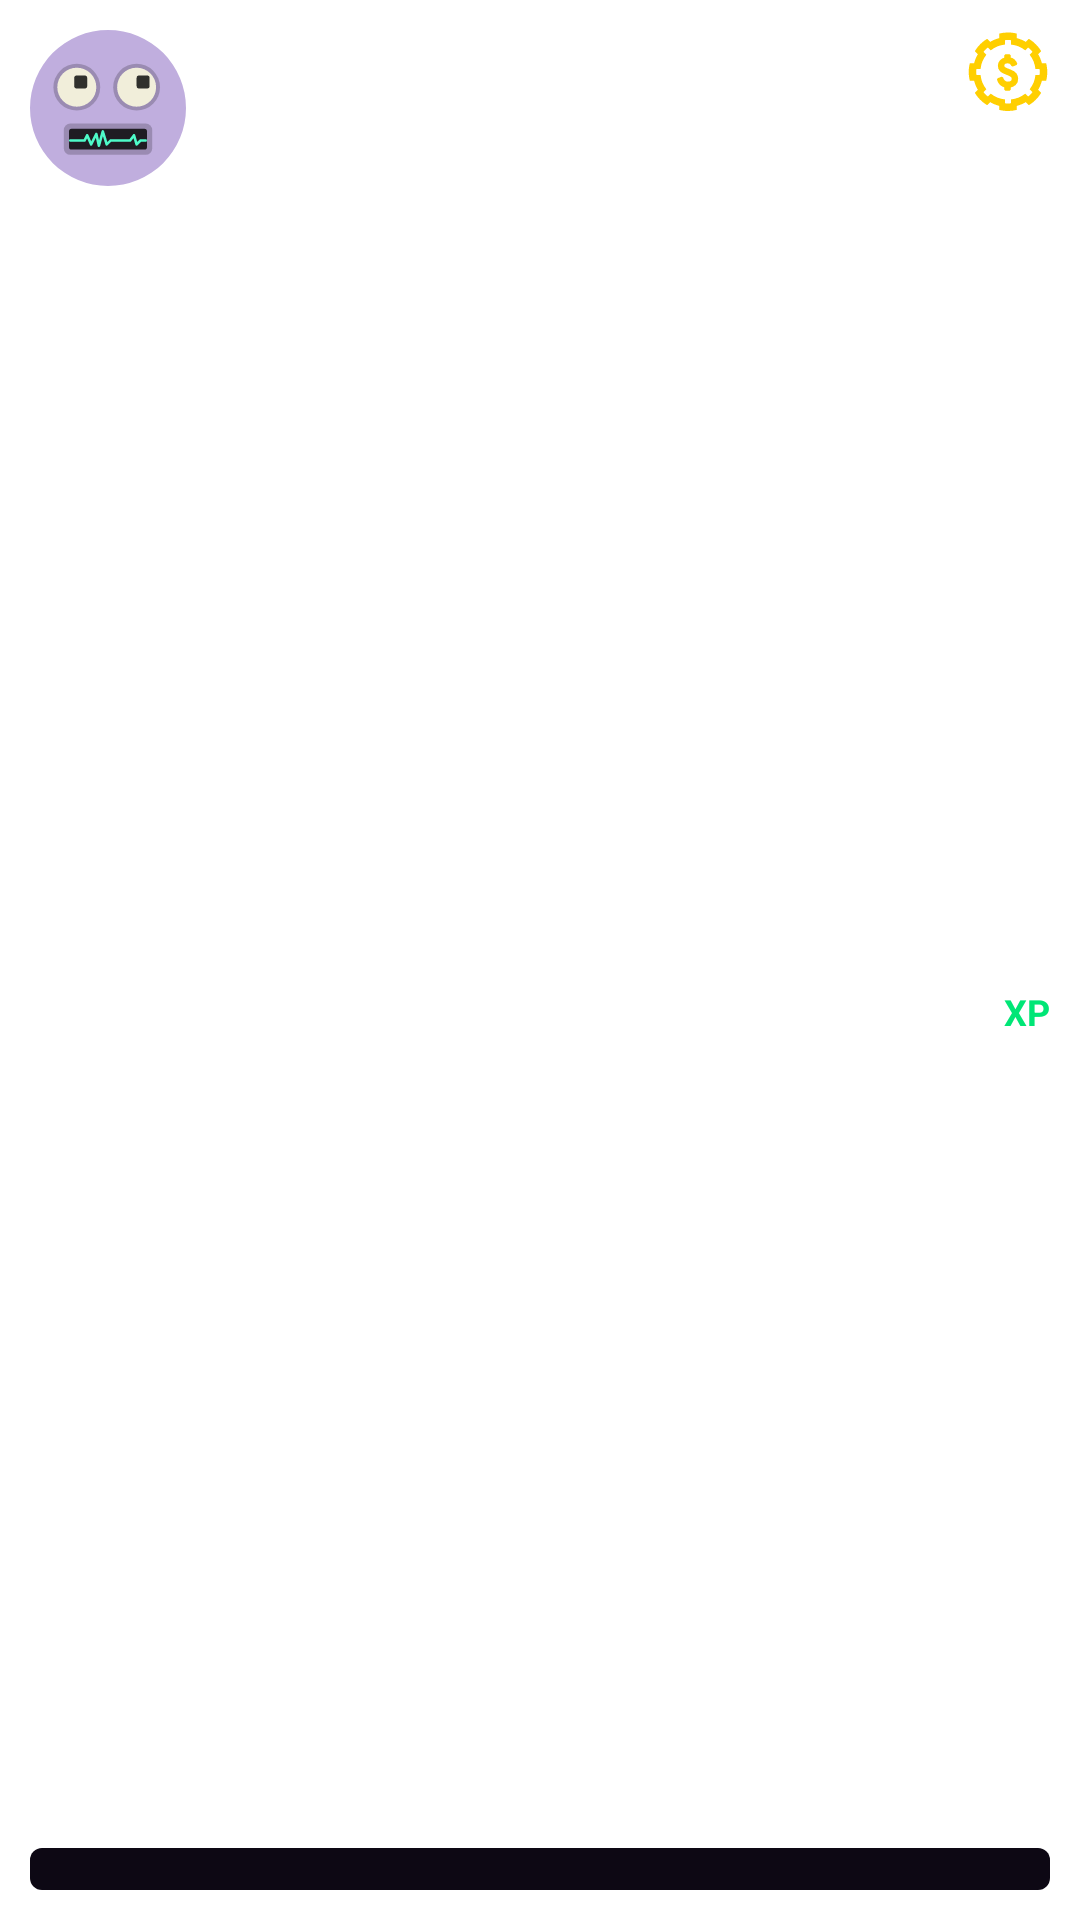

Screen size 1080 × 1920. Icon name, then its center in pixels as [x,y]:
bot: [108,108]
coin: [1008,71]
